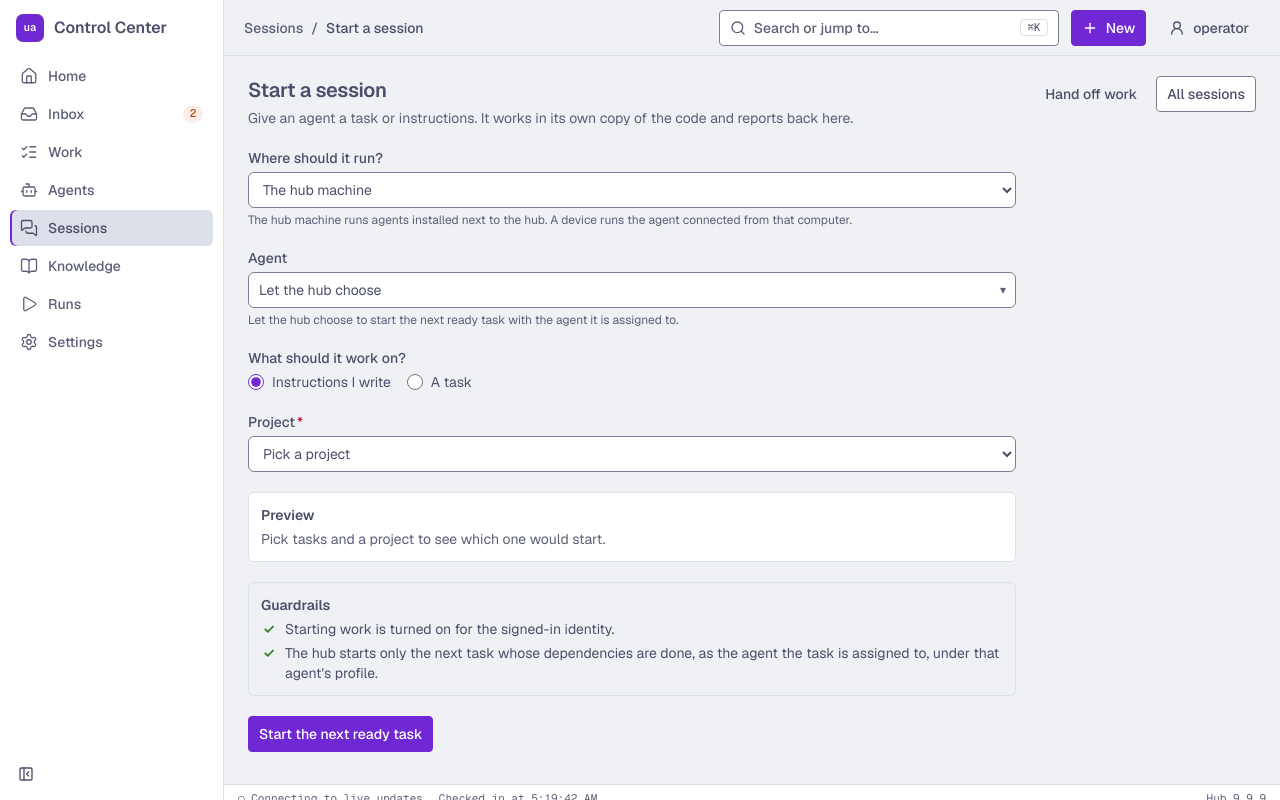
Test: launch guard › route present: 'unknown' (the hub never saw it) allows a new launch
Expected: the button "Start the next ready task" is shown, [248, 716, 434, 752]
Replace the text in the dropdown labelled "Agent" with "Desktop_" at {"x": 632, "y": 290}, box [248, 272, 1016, 308]
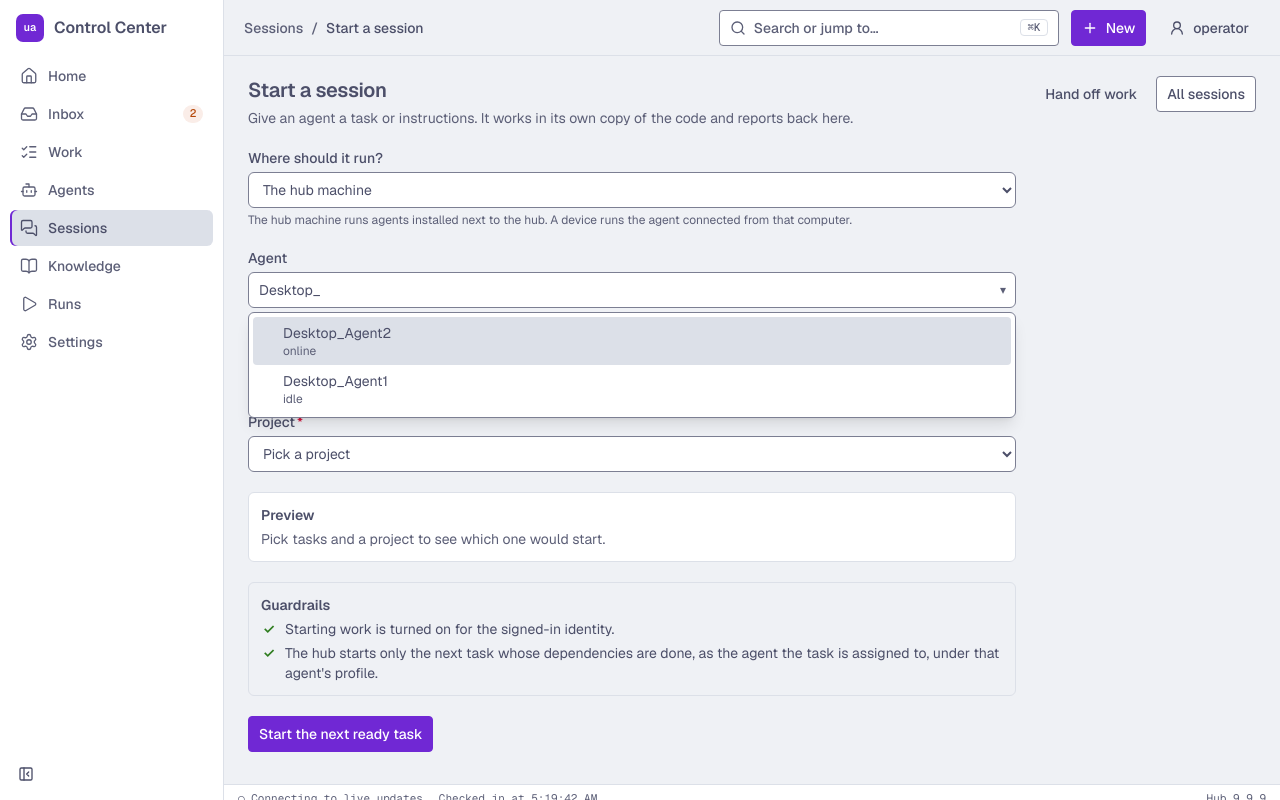
Press the mouse on the option "Desktop_Agent2 online" at {"x": 337, "y": 333}, box [253, 317, 1011, 365]
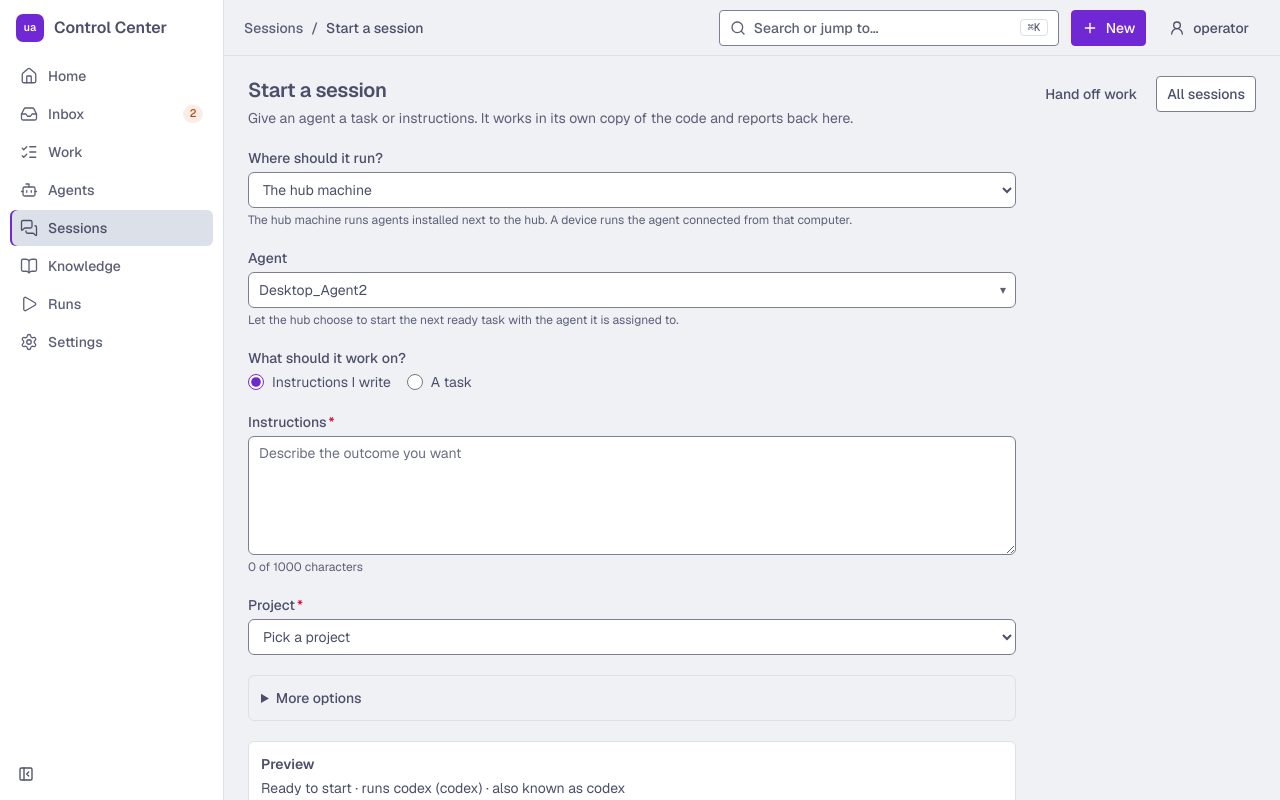
Type "Tidy the README" into the text box labelled "Instructions*".
click(632, 496); type("Tidy the README")  # box [248, 436, 1016, 555]
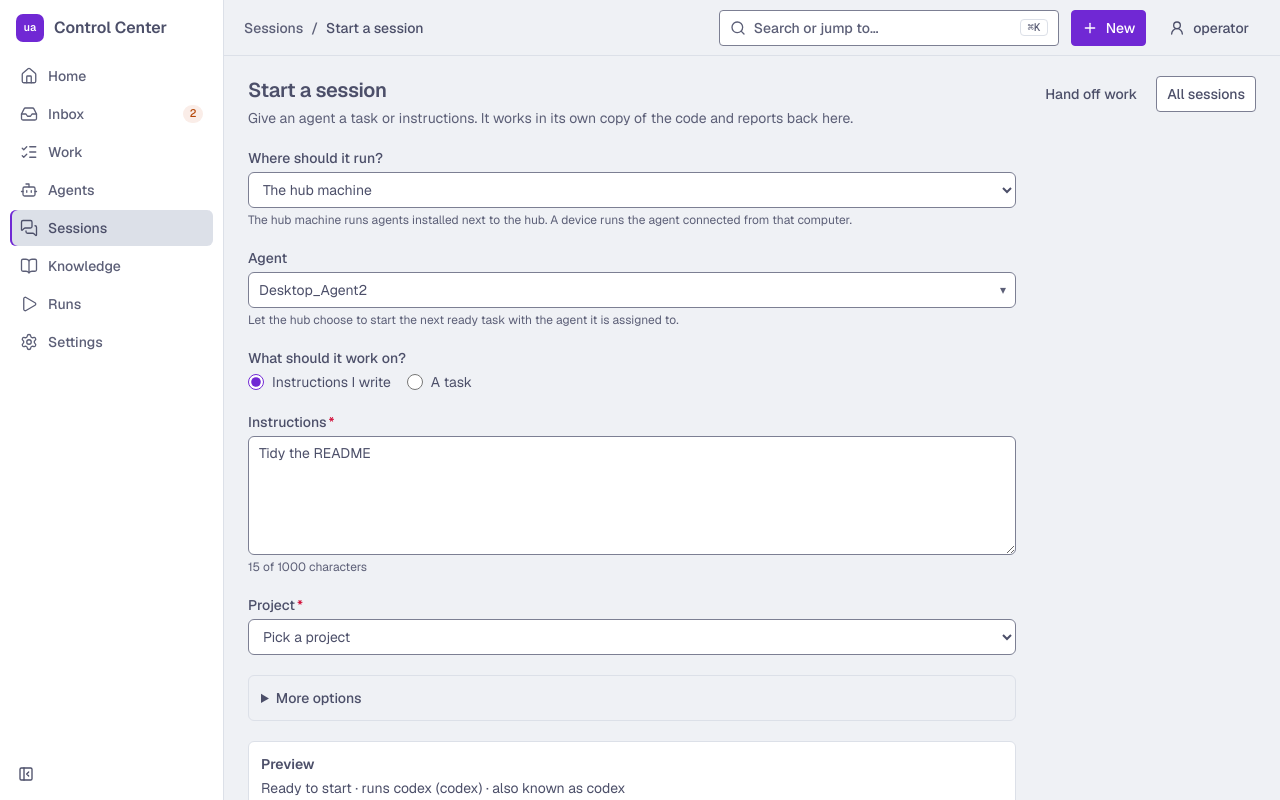
Select "Unified agent" in the dropdown labelled "Project*" at {"x": 632, "y": 637}, box [248, 619, 1016, 655]
(page scrolled)
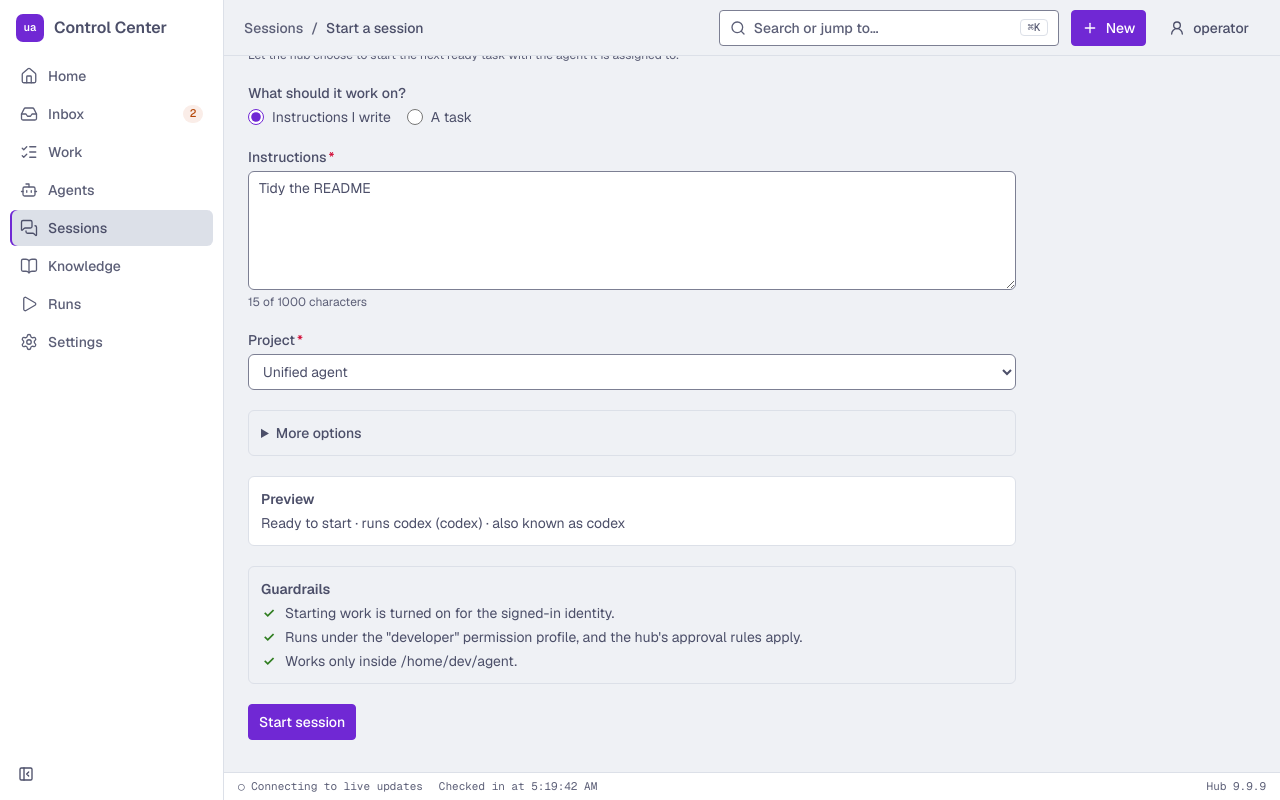
Click the button "Start session".
click(302, 722)  # box [248, 704, 356, 740]
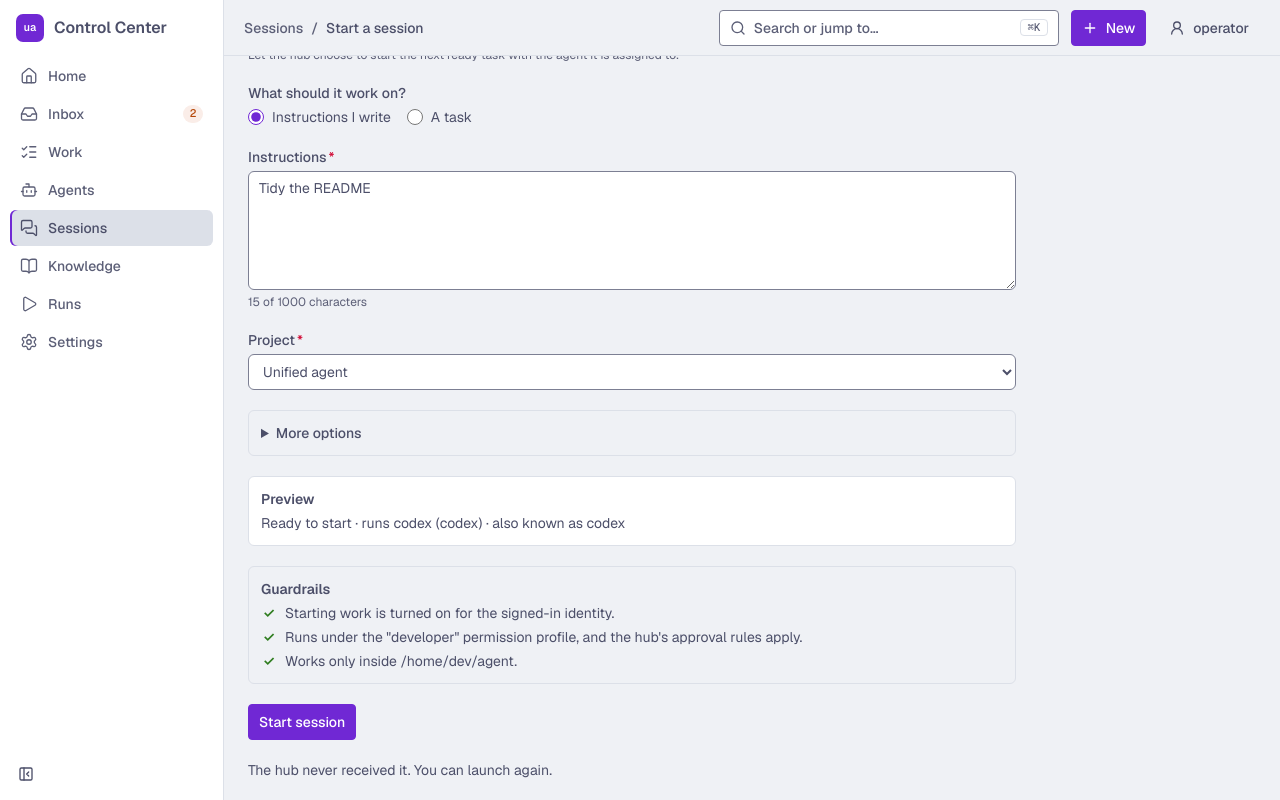
Now the text "The hub never received it. You can launch again." is shown, box [248, 761, 552, 779]
